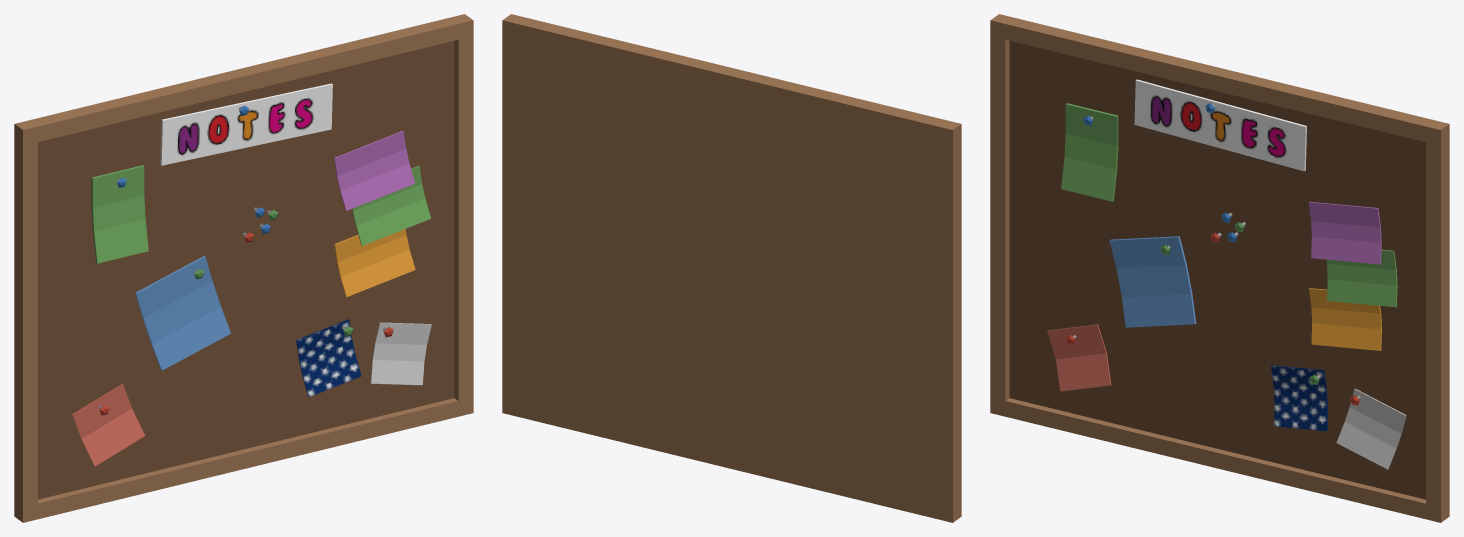
File: Int_NotesBoard01_1.fbx
3 renders of one model, left to right at view 1: azimuth 30°, elevation 25°; view 2: azimuth 150°, elevation 25°; view 3: azimuth 330°, elevation 25°, orthographic.
Parts seen in each view (by area): view 1: Int_NotesBoard01_1; view 2: Int_NotesBoard01_1; view 3: Int_NotesBoard01_1.
Boxes of the visible parts, x1,y1,x2,y2 form: Int_NotesBoard01_1: [14, 14, 473, 522]; Int_NotesBoard01_1: [502, 14, 961, 522]; Int_NotesBoard01_1: [990, 14, 1449, 522].
Size of what is drawn, in the model's own units: 150 by 6.04 by 125.
